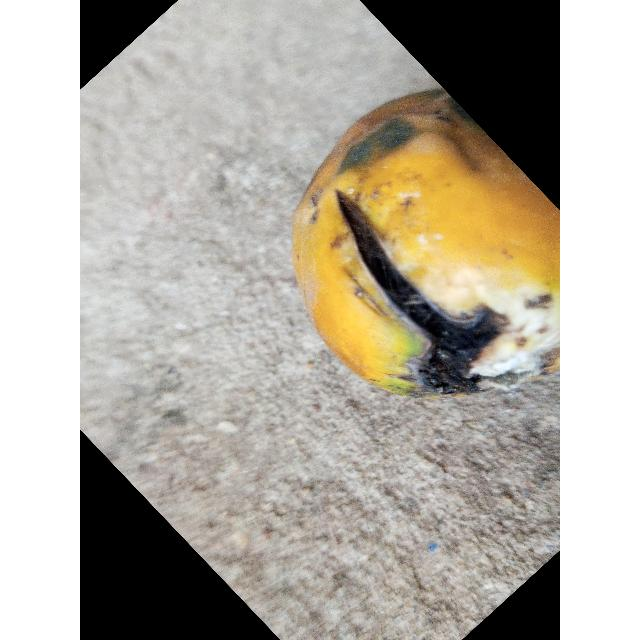damaged: (293, 88, 560, 397)
